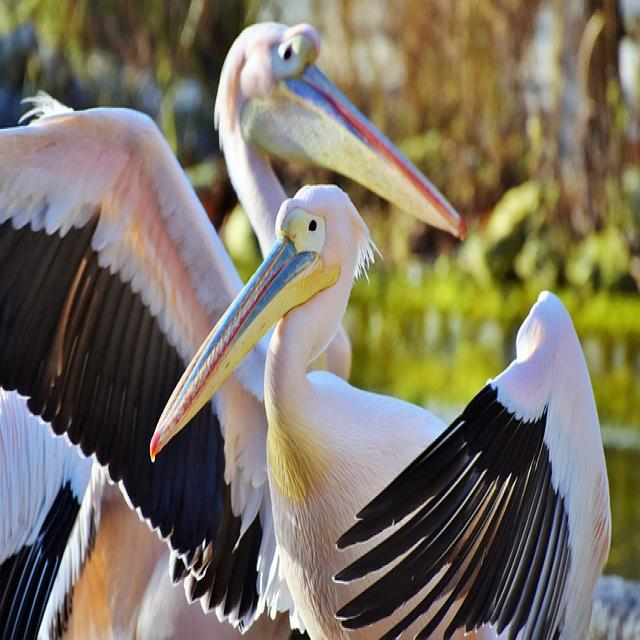Carnivorous: (0, 108, 613, 640), (0, 391, 244, 640), (214, 22, 465, 256)
